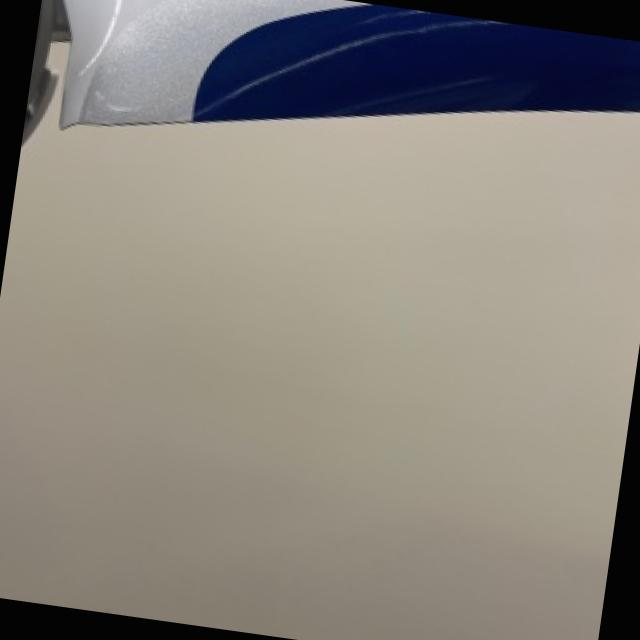healthy: (23, 0, 640, 134)
